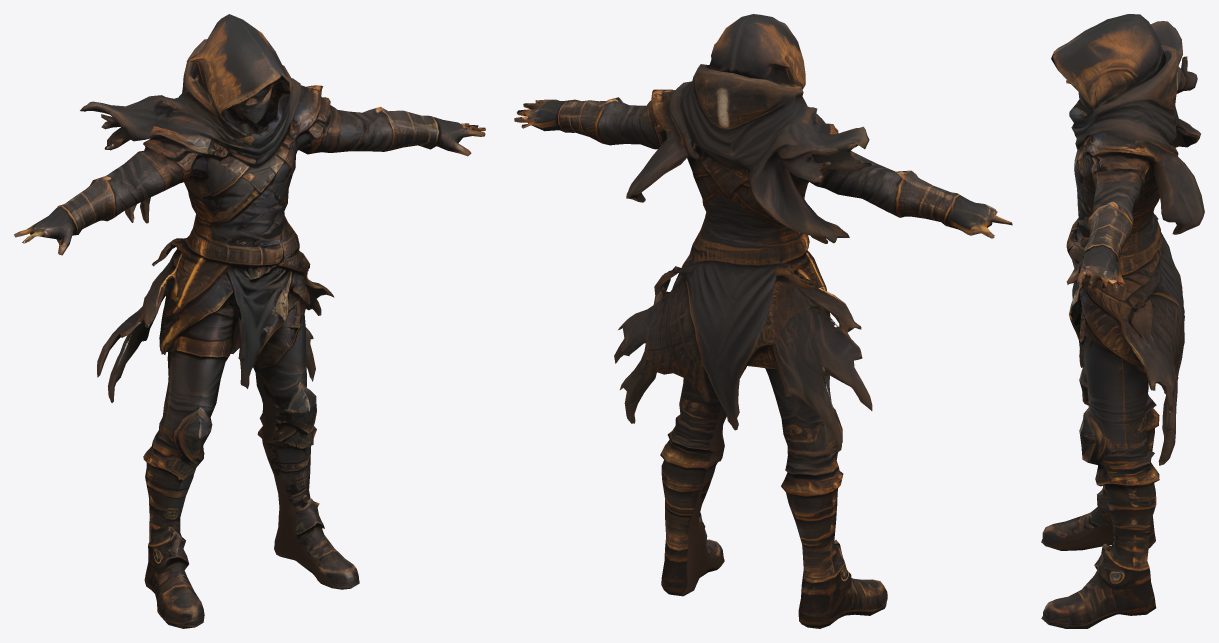
The model's file is base_basic_shaded.glb.
The picture shows the model from 3 angles, left to right: view 1: azimuth 30°, elevation 25°; view 2: azimuth 150°, elevation 25°; view 3: azimuth 270°, elevation 25°; orthographic projection. The views are drawn at different scales.
Visible parts, largest first — view 1: model; view 2: model; view 3: model.
Boxes of the visible parts, box(x1,y1,x2,y2) form: model: box(14, 14, 485, 628); model: box(514, 14, 1012, 628); model: box(1041, 14, 1204, 628).
Size of the model in its own units: 1.64 by 1.89 by 0.4922.
Materials: 1 (1 with a texture image).
